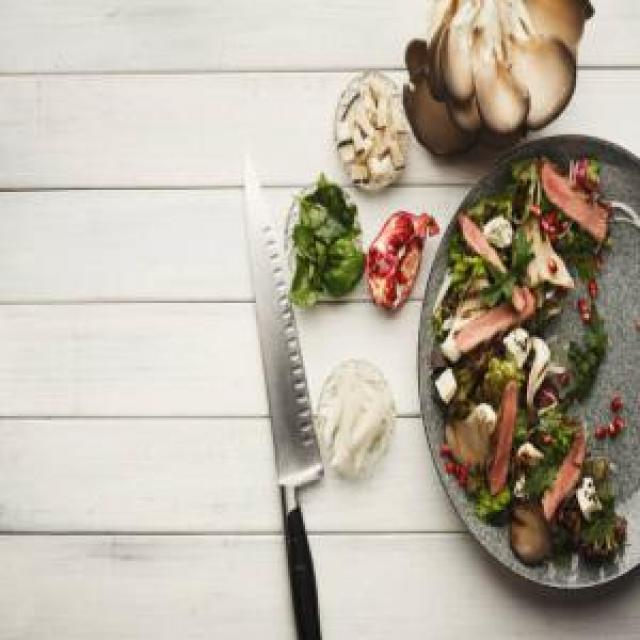knife: (211, 149, 339, 638)
